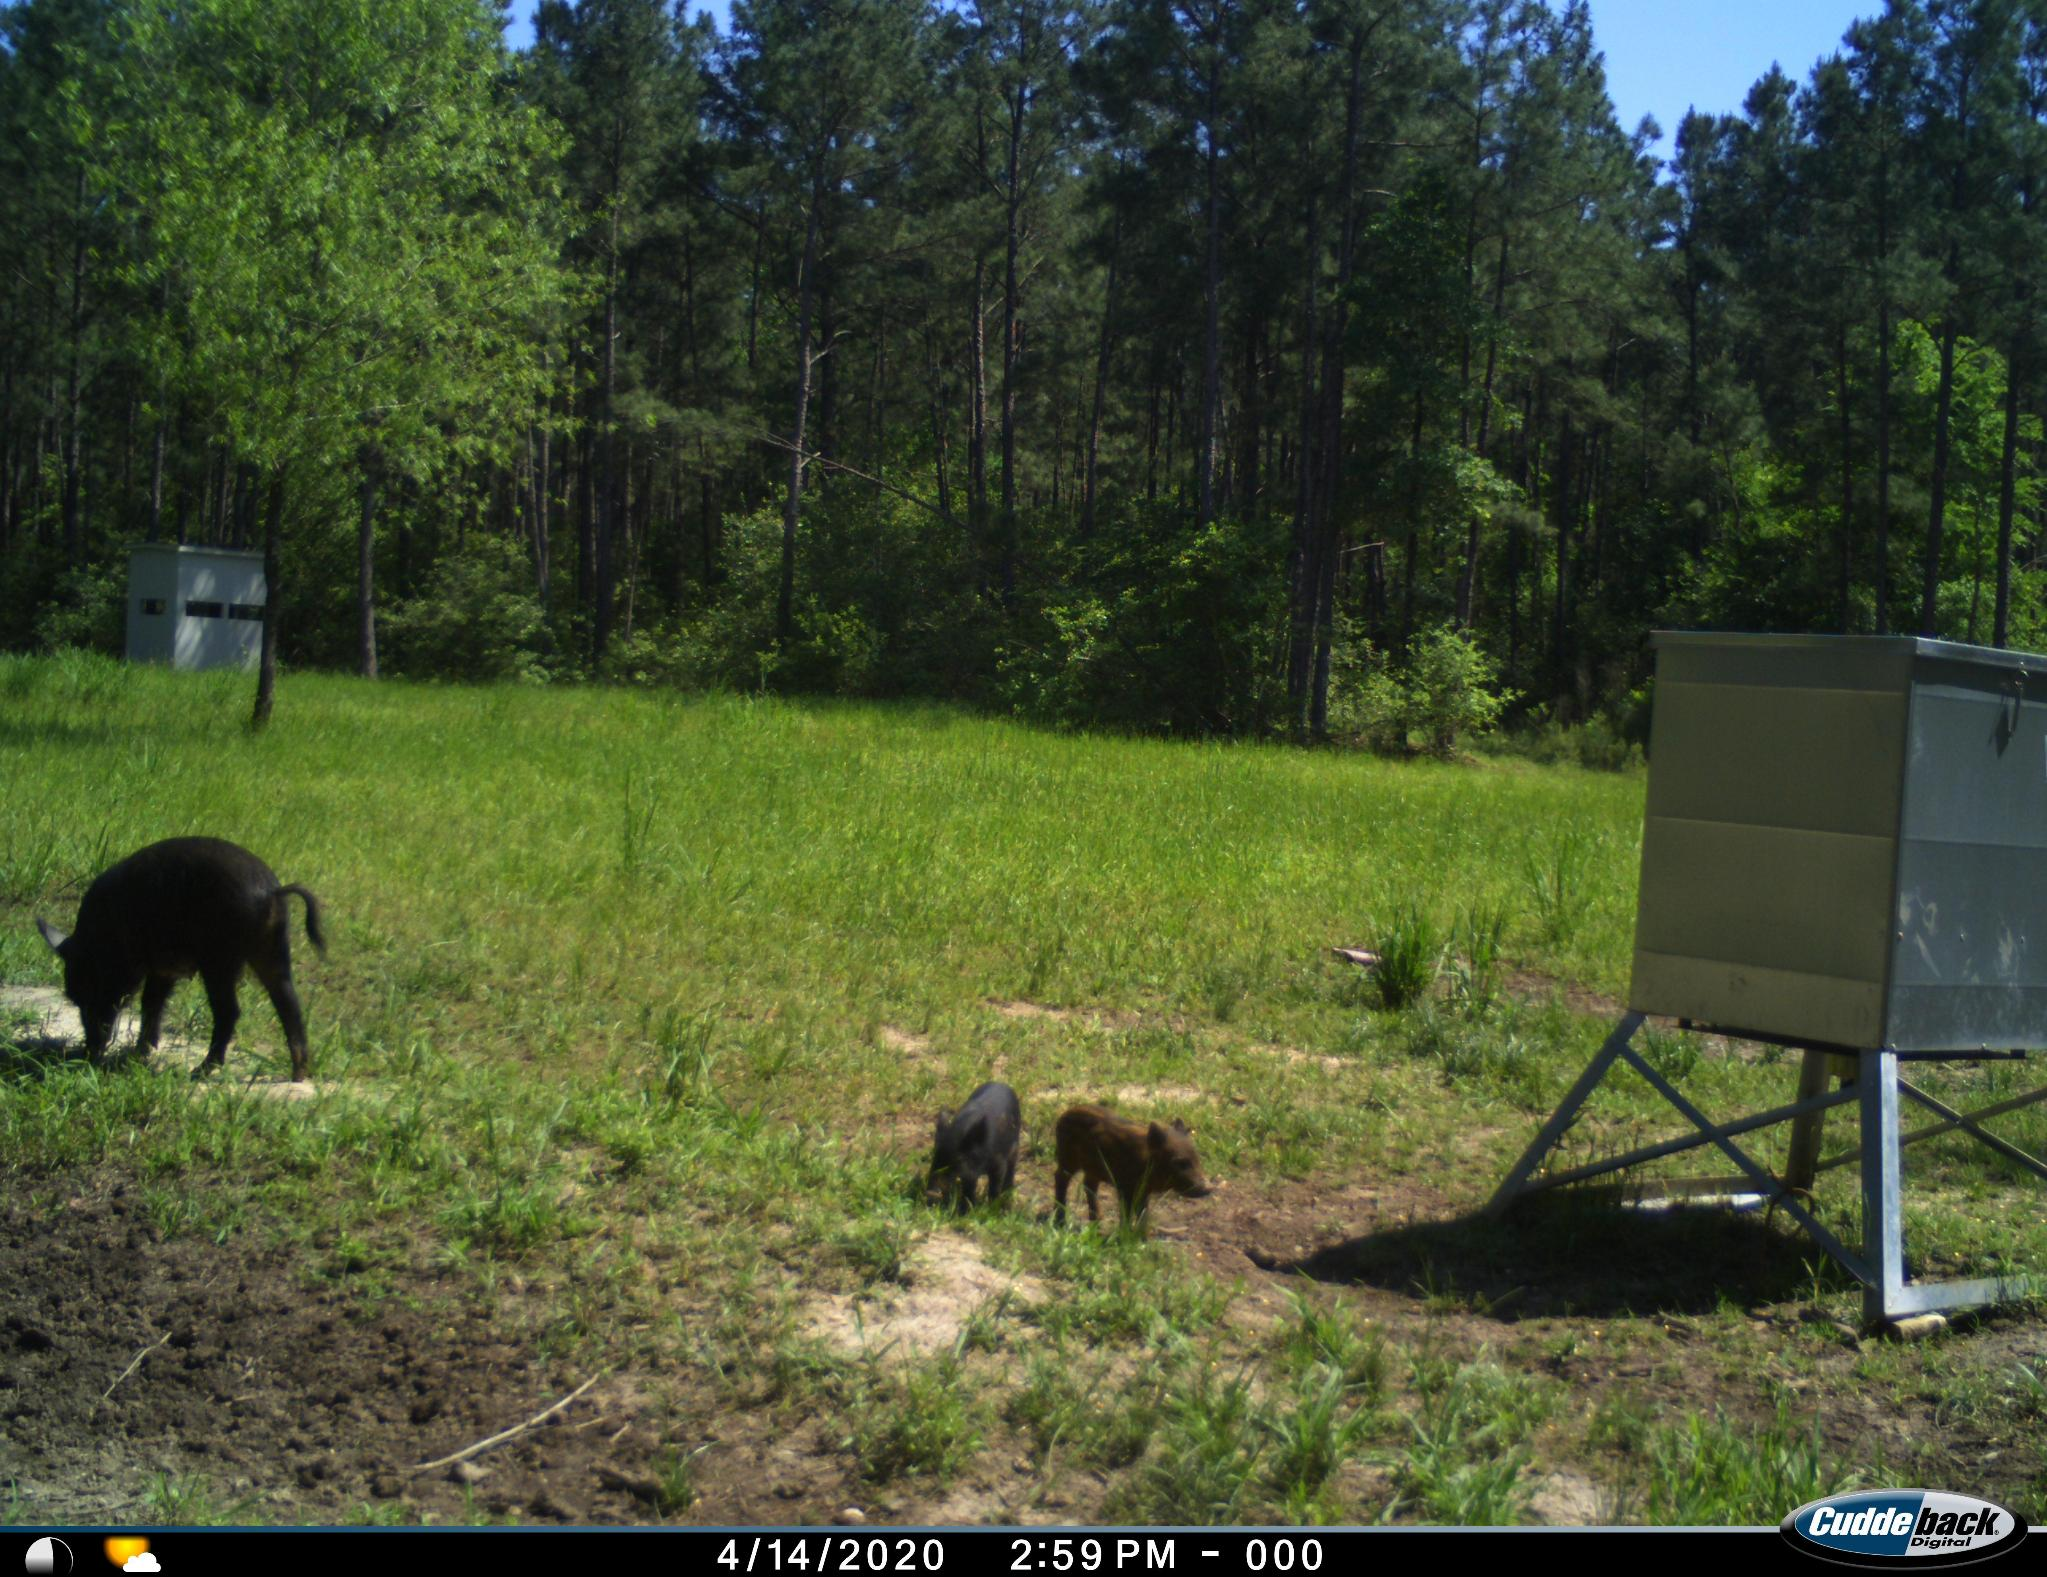Hog: (17, 825, 340, 1082), (1035, 1087, 1219, 1257), (911, 1078, 1032, 1204)
